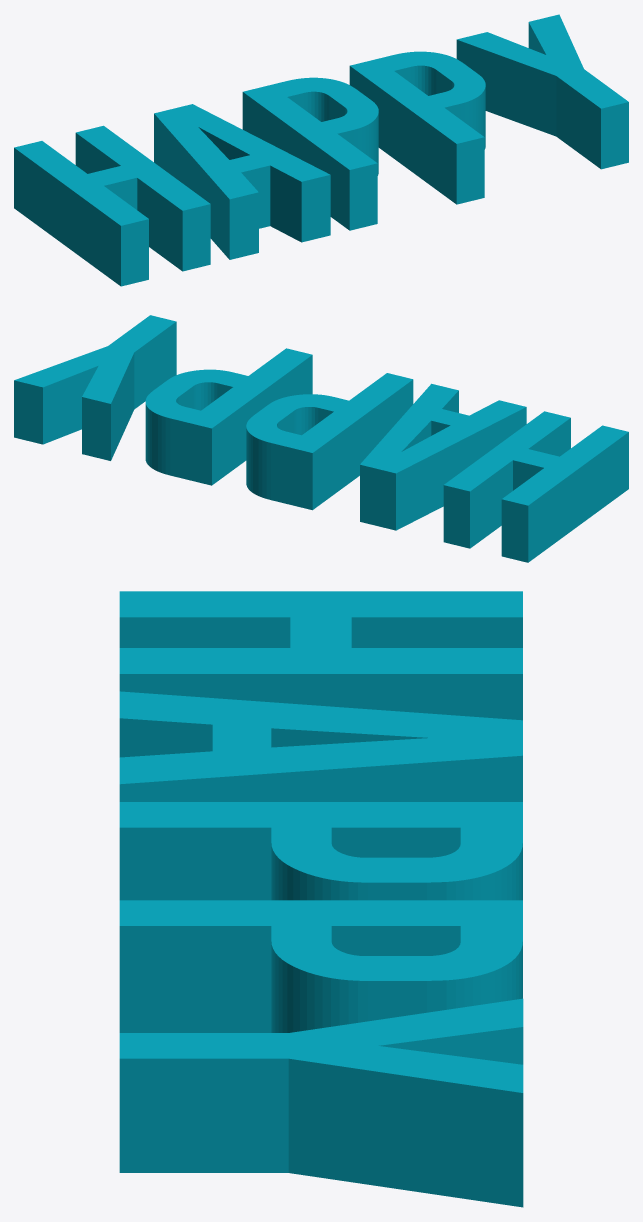
File: Happy.glb
3 views of the same model, one above another, from view 1: azimuth 30°, elevation 25°; view 2: azimuth 150°, elevation 25°; view 3: azimuth 270°, elevation 25° (orthographic). The views are drawn at different scales.
Visible parts, largest first — view 1: Mesh_Mesh_head_geo.001_lambert2SG.001; view 2: Mesh_Mesh_head_geo.001_lambert2SG.001; view 3: Mesh_Mesh_head_geo.001_lambert2SG.001.
Boxes of the visible parts, <box> form: Mesh_Mesh_head_geo.001_lambert2SG.001: <box>14,14,628,286</box>; Mesh_Mesh_head_geo.001_lambert2SG.001: <box>14,315,628,562</box>; Mesh_Mesh_head_geo.001_lambert2SG.001: <box>119,591,523,1207</box>.
Bounding box in the file's own units: 141 × 15 × 48.
